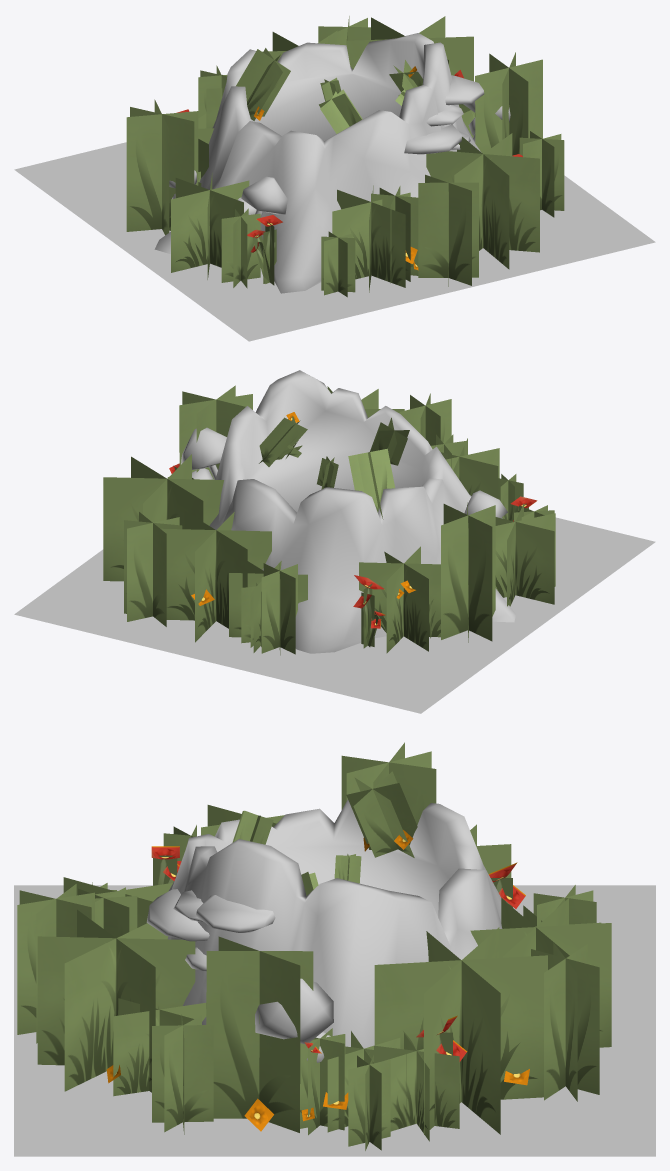
The picture shows the model from 3 angles, top to bottom: view 1: azimuth 30°, elevation 25°; view 2: azimuth 150°, elevation 25°; view 3: azimuth 270°, elevation 25°; orthographic projection. The views are drawn at different scales.
Parts seen in each view (by area): view 1: Trunk, Ground; view 2: Trunk, Ground; view 3: Trunk, Ground.
Boxes of the visible parts, bbox=[...] form: Trunk: bbox=[126, 16, 564, 297]; Ground: bbox=[14, 142, 655, 341]; Trunk: bbox=[103, 370, 555, 655]; Ground: bbox=[14, 517, 655, 713]; Trunk: bbox=[17, 742, 611, 1150]; Ground: bbox=[14, 885, 655, 1156].
Bounding box in the file's own units: 1.72 × 0.6682 × 1.72.
